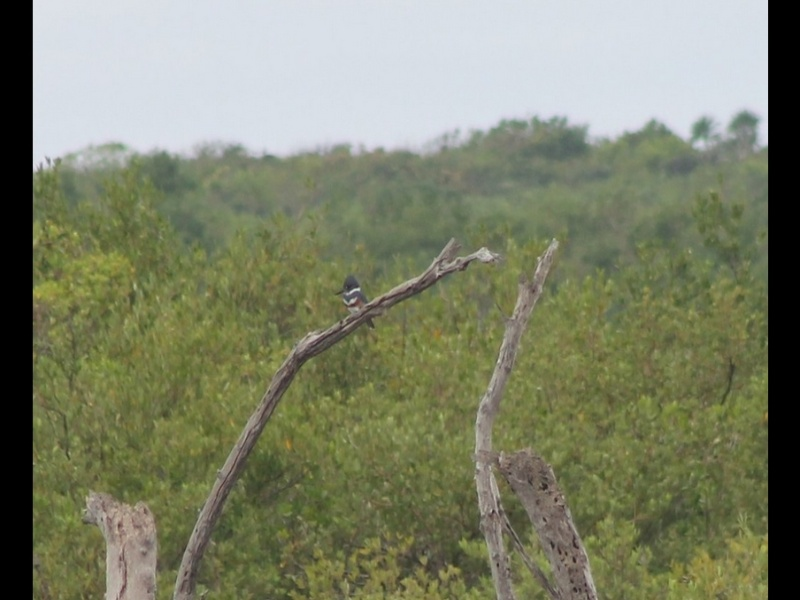kingfisher: (336, 275, 376, 326)
